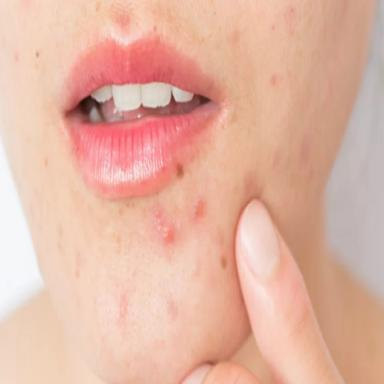acne: (155, 209, 175, 243), (120, 294, 127, 318), (195, 201, 204, 217)
